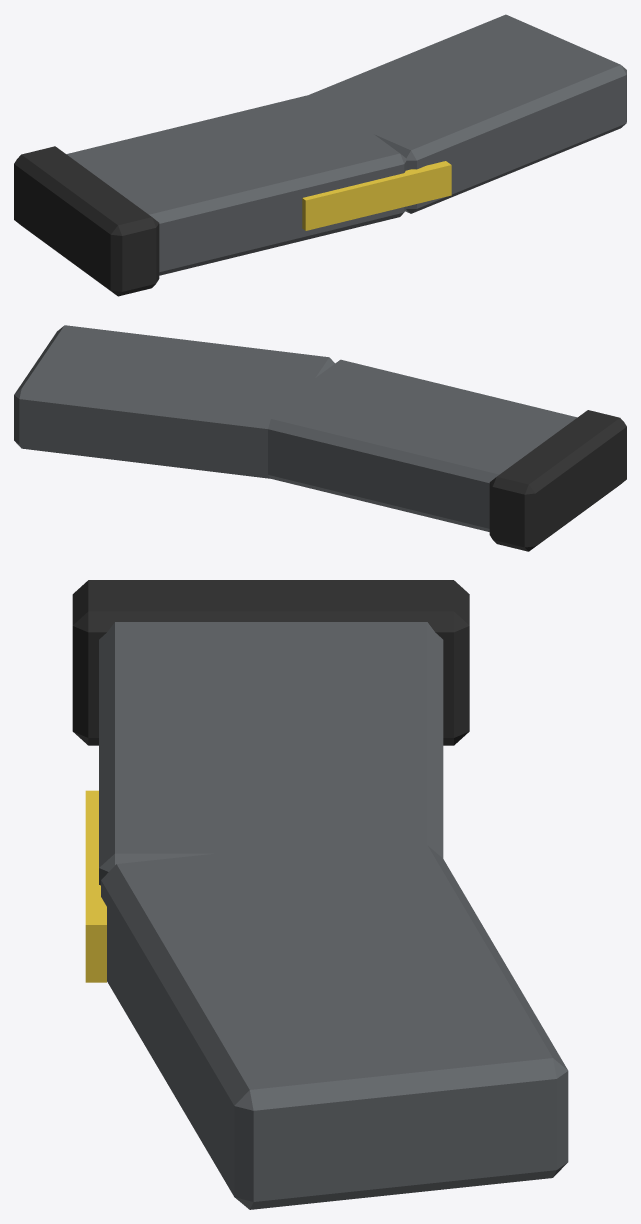
The model's file is spent_magazine.glb.
The picture shows the model from 3 angles, top to bottom: view 1: azimuth 30°, elevation 25°; view 2: azimuth 150°, elevation 25°; view 3: azimuth 270°, elevation 25°; orthographic projection. The views are drawn at different scales.
Parts seen in each view (by area): view 1: spent_magazine; view 2: spent_magazine; view 3: spent_magazine.
Part boxes in pixels (x1,y1,x2,y2): spent_magazine: (14, 14, 626, 296); spent_magazine: (14, 325, 626, 551); spent_magazine: (72, 580, 568, 1209).
Size of the model in its own units: 0.2305 by 0.028 by 0.0936.
